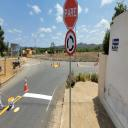Pare: (63, 0, 78, 30)
Rotatoria: (64, 28, 76, 56)
